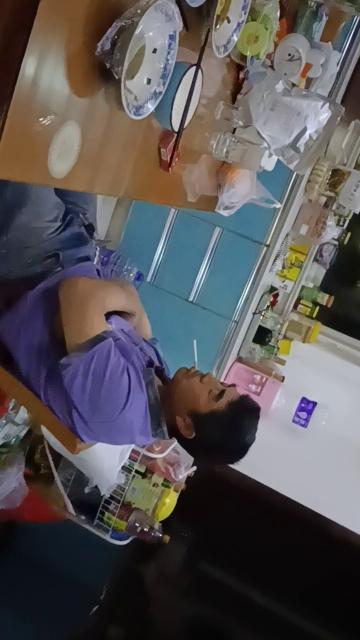Smoking: (194, 340, 198, 370)
